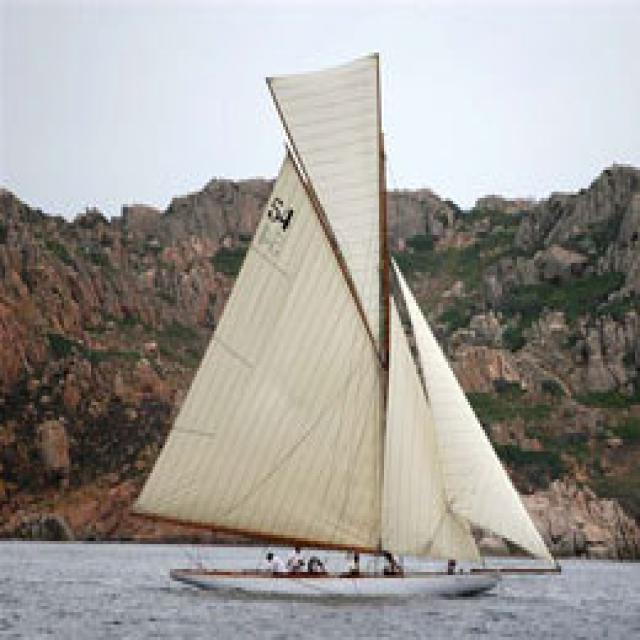Ship: (128, 56, 560, 598)
